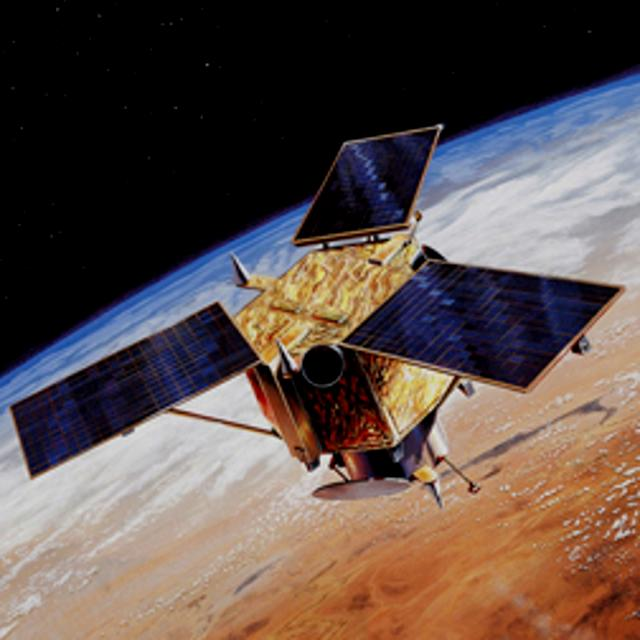satellite: (21, 137, 624, 510)
